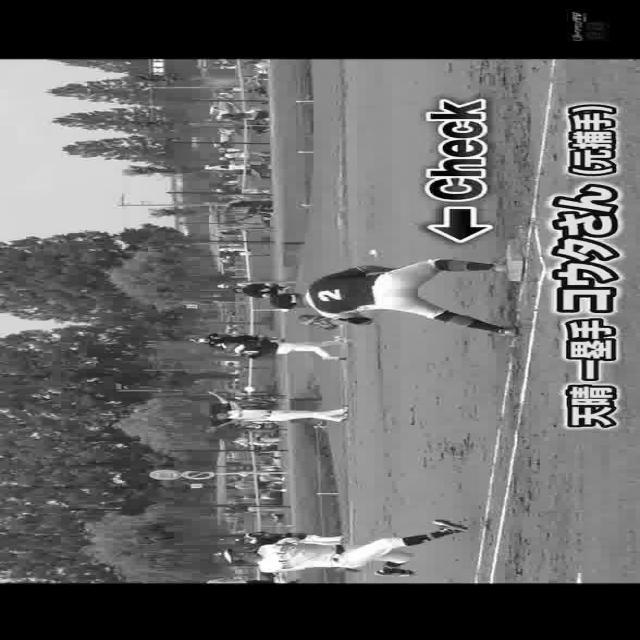base: (500, 242, 524, 282)
baseball: (244, 386, 260, 392)
baseball_glove: (293, 312, 337, 328)
shoe: (430, 518, 474, 536), (490, 324, 518, 339), (376, 566, 416, 576), (490, 254, 504, 274)
